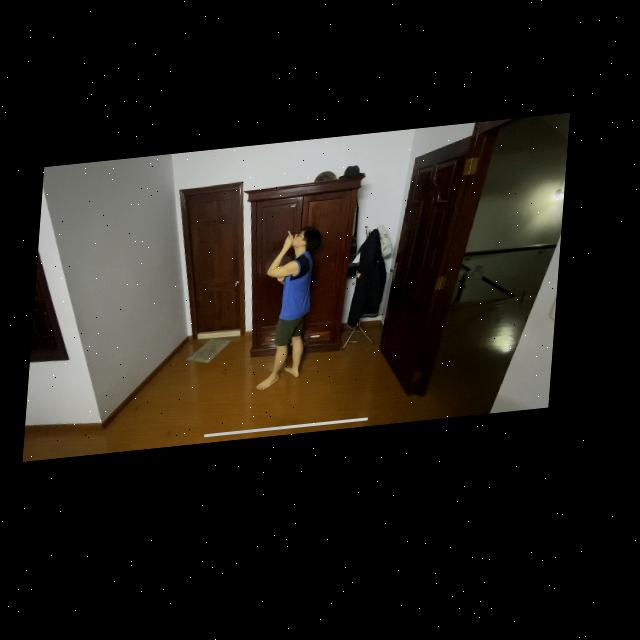cigarette: (291, 237, 296, 243)
